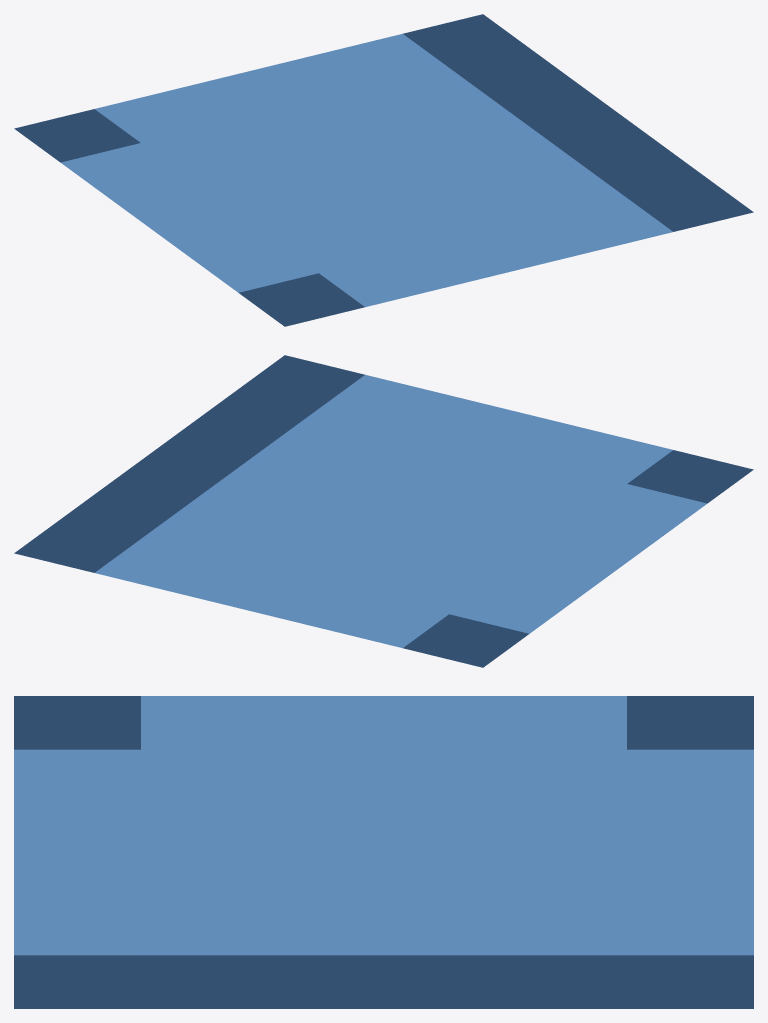
Rendered from M_FloorCrossT700x700Blue100-3_2.fbx.
3 views of the same model, one above another, from view 1: azimuth 30°, elevation 25°; view 2: azimuth 150°, elevation 25°; view 3: azimuth 270°, elevation 25° (orthographic). The views are drawn at different scales.
Parts seen in each view (by area): view 1: M_FloorCrossT700x700Blue100-3_2; view 2: M_FloorCrossT700x700Blue100-3_2; view 3: M_FloorCrossT700x700Blue100-3_2.
Boxes of the visible parts, box(x1,y1,x2,y2) form: M_FloorCrossT700x700Blue100-3_2: box(14, 14, 753, 326); M_FloorCrossT700x700Blue100-3_2: box(14, 355, 753, 667); M_FloorCrossT700x700Blue100-3_2: box(14, 696, 753, 1008).
Size of the model in its own units: 700 by 700 by 6.53e-22.
